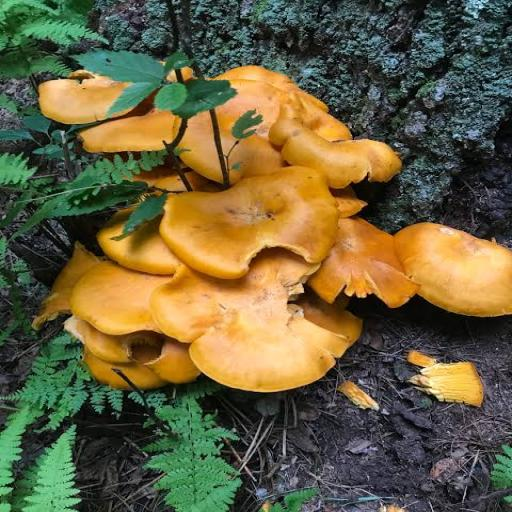Jack O Lantern Mushroom: (66, 250, 367, 398), (165, 73, 448, 192), (155, 166, 358, 279), (381, 216, 512, 333), (21, 64, 162, 126)
